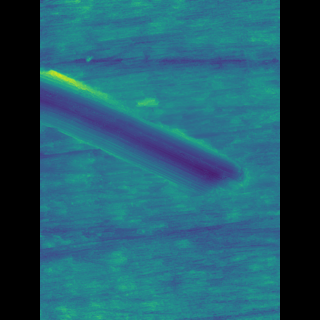Loch: (70, 62, 227, 200)
